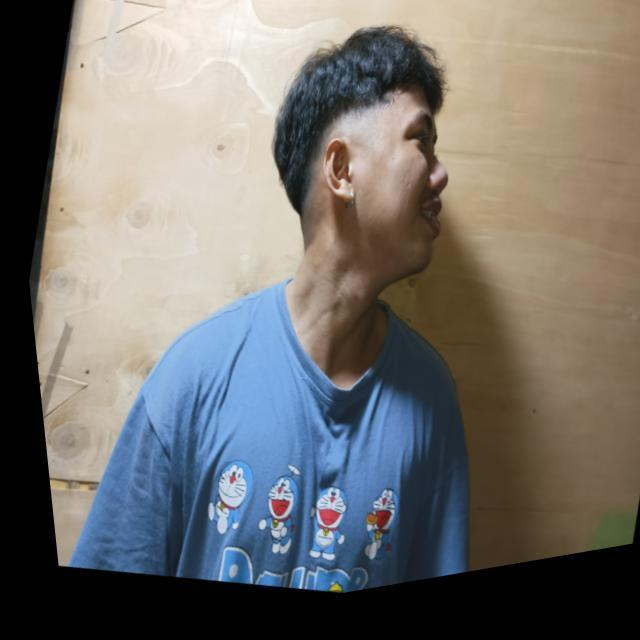Nonhelmet: (270, 23, 456, 288)
